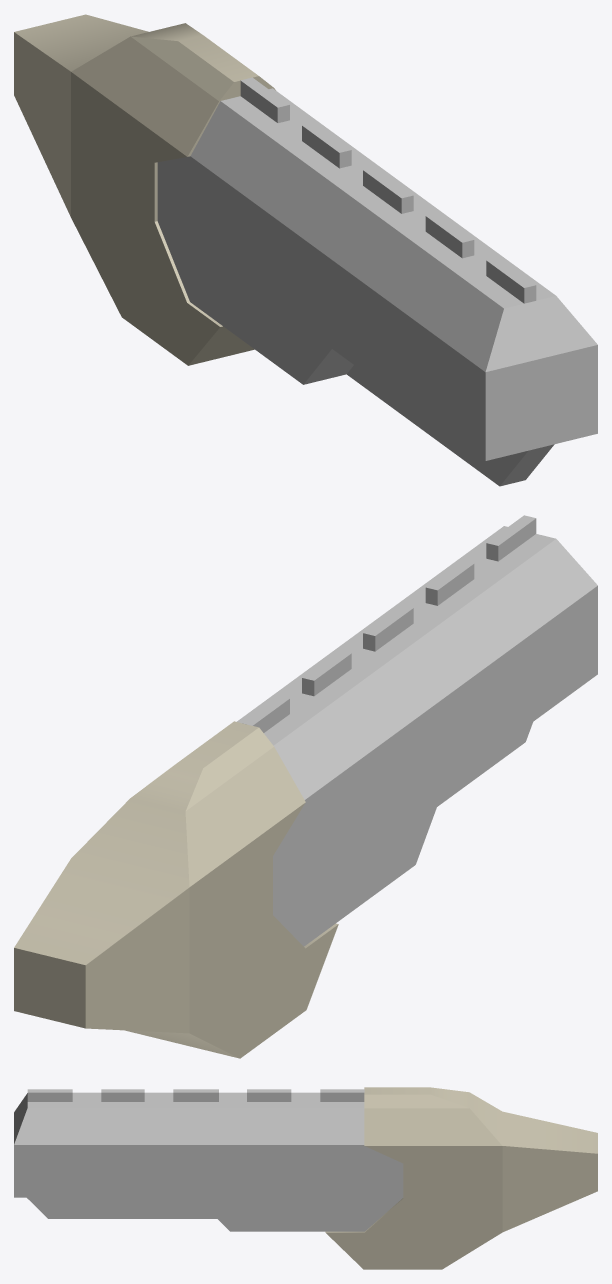
Rendered from protogunfbx.fbx.
The picture shows the model from 3 angles, top to bottom: view 1: azimuth 30°, elevation 25°; view 2: azimuth 150°, elevation 25°; view 3: azimuth 270°, elevation 25°; orthographic projection. The views are drawn at different scales.
Parts seen in each view (by area): view 1: protogun:Plane004; view 2: protogun:Plane004; view 3: protogun:Plane004.
Boxes of the visible parts, x1,y1,x2,y2 form: protogun:Plane004: (14, 14, 597, 486); protogun:Plane004: (14, 515, 597, 1058); protogun:Plane004: (14, 1087, 597, 1269).
Size of the model in its own units: 0.00391 by 0.00857 by 0.0281.
